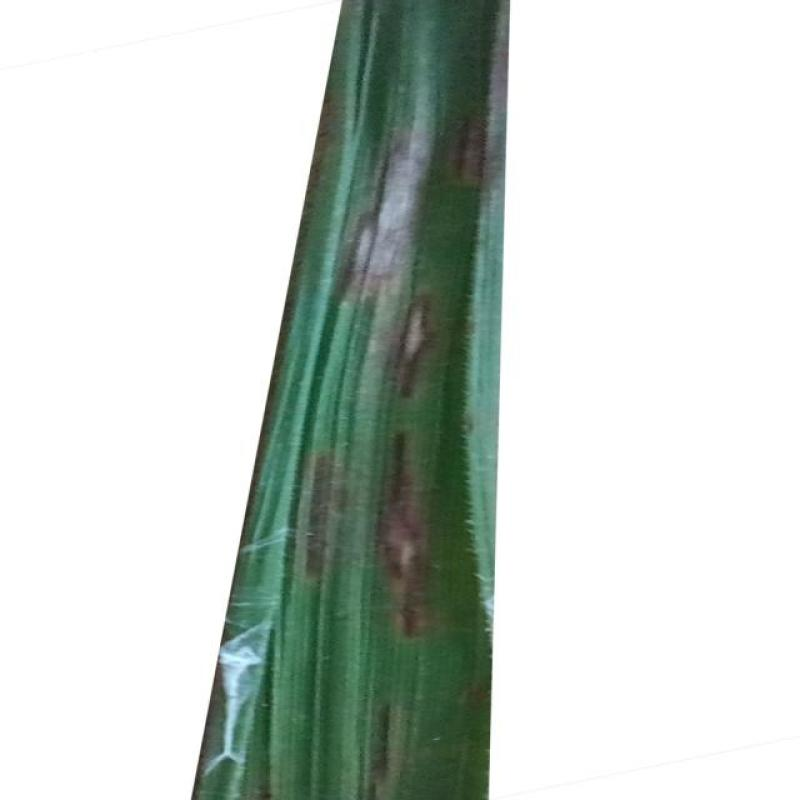Bacterial_Leaf_Blight: (311, 0, 491, 646)
